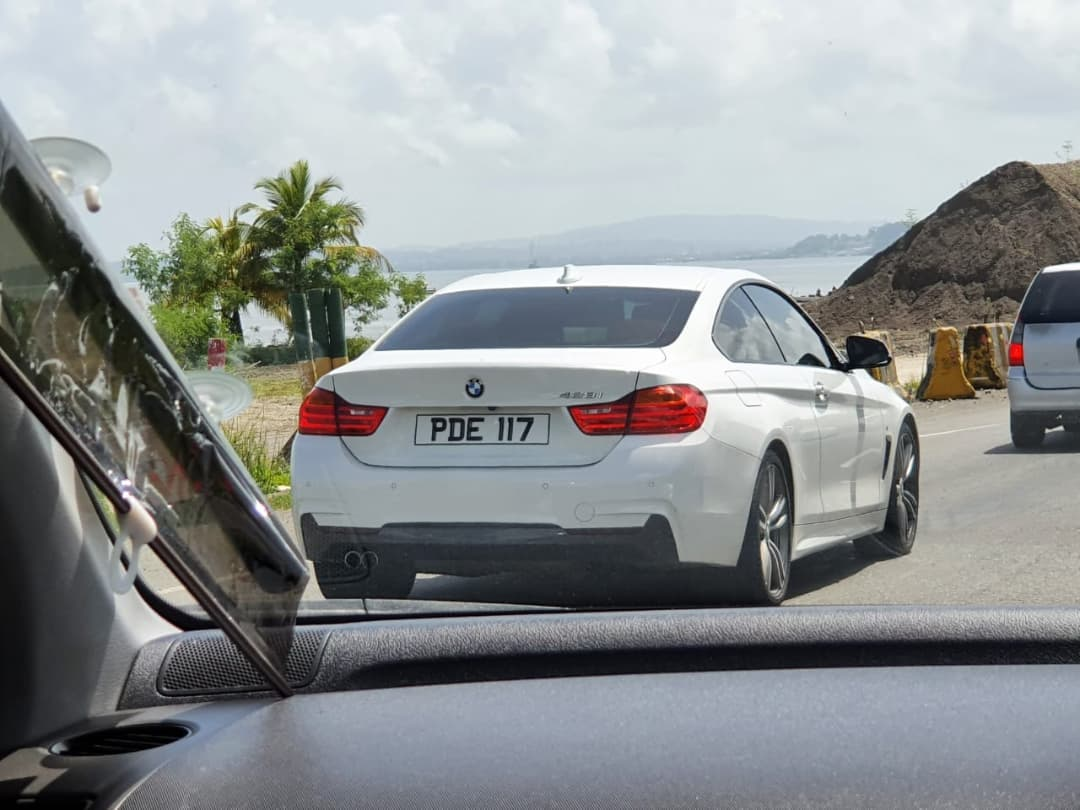License-Plate: (417, 415, 547, 443)
